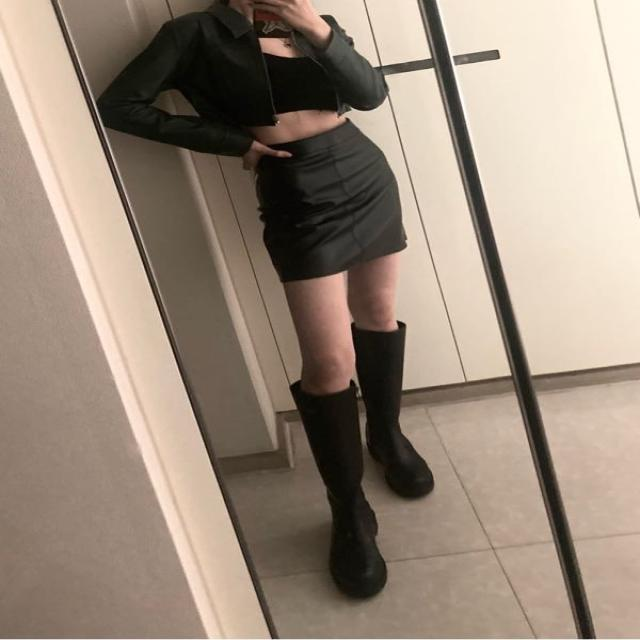blazer: (99, 0, 388, 156)
